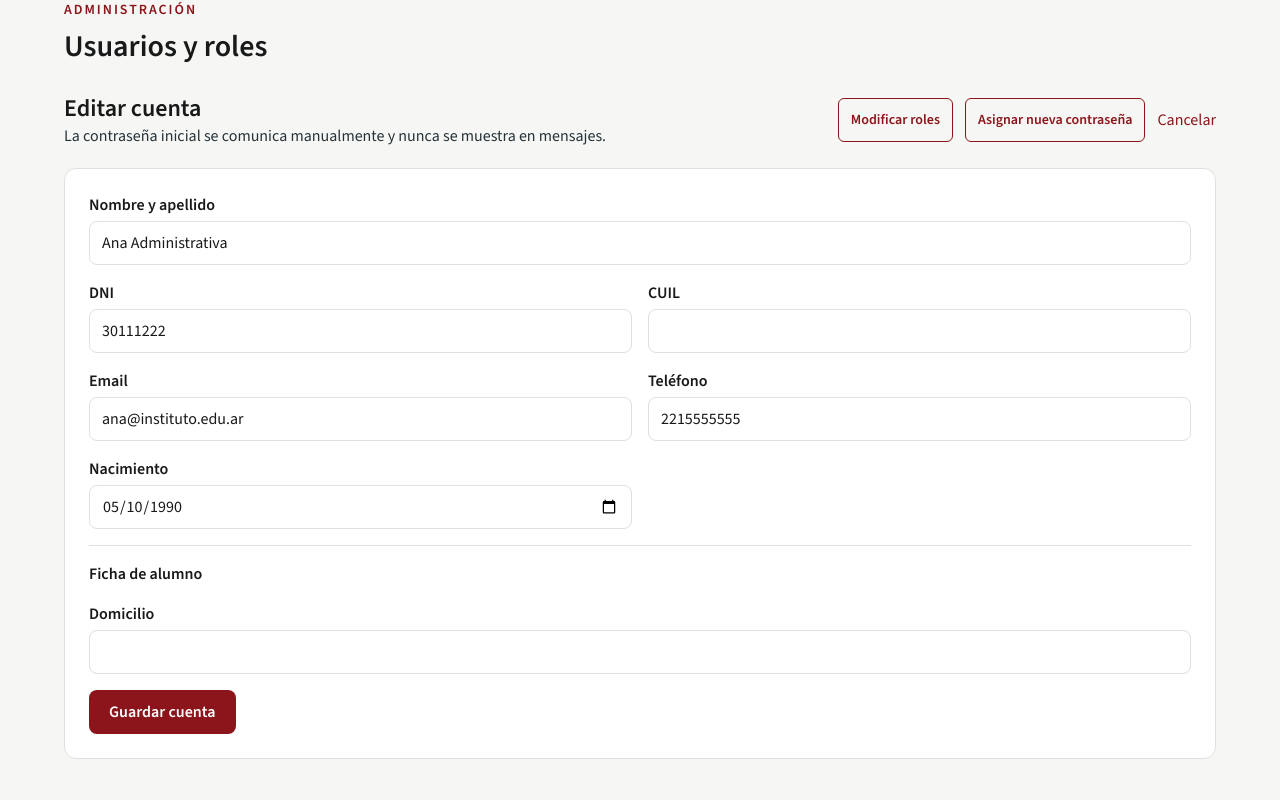
AdminUsersView › shows the password action inside Modificar datos for another user
The width and height of the screenshot is (1280, 800).
Expected: the heading "Editar cuenta" is shown, x1=64 y1=92 x2=201 y2=124
Click the button "Asignar nueva contraseña": (1055, 120) x1=965 y1=98 x2=1145 y2=142
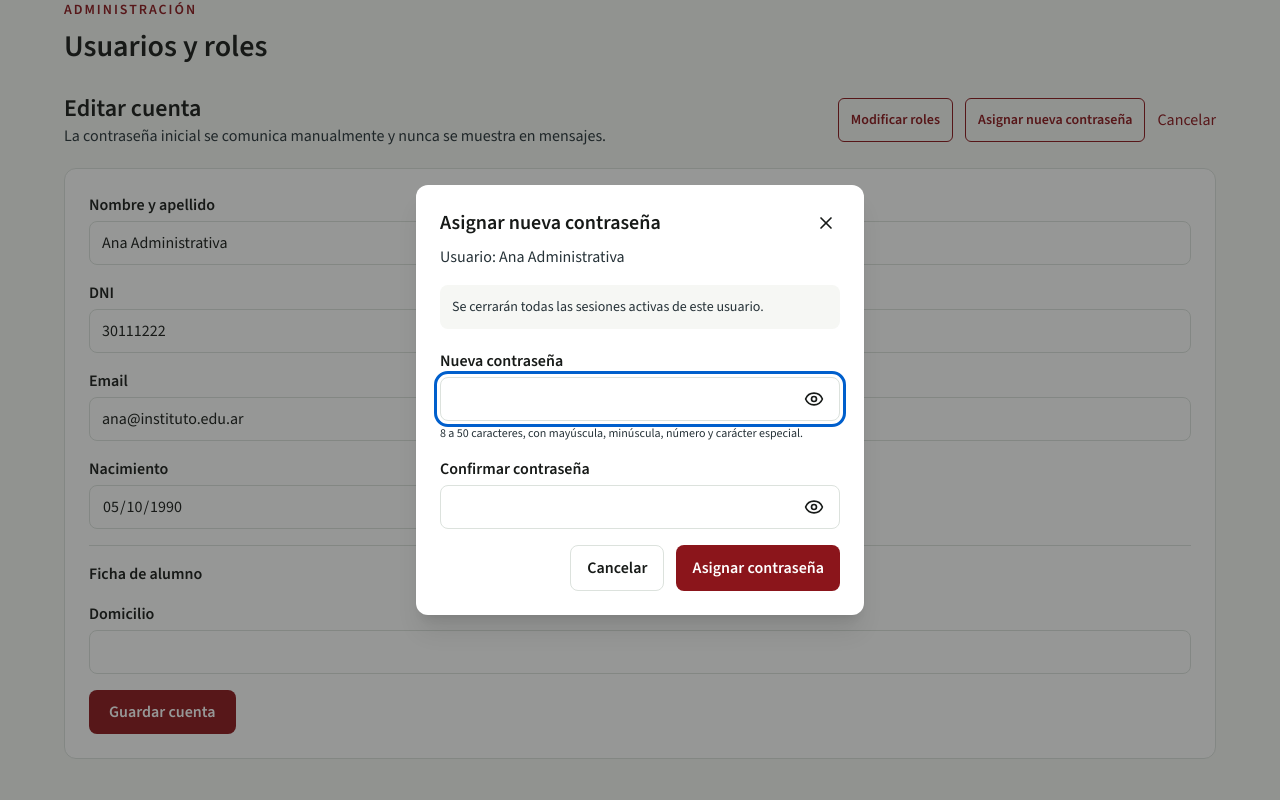
Now the dialog "Asignar nueva contraseña" is shown, box x1=416 y1=185 x2=864 y2=615
Click the button "Asignar contraseña": (758, 568) x1=676 y1=545 x2=840 y2=591
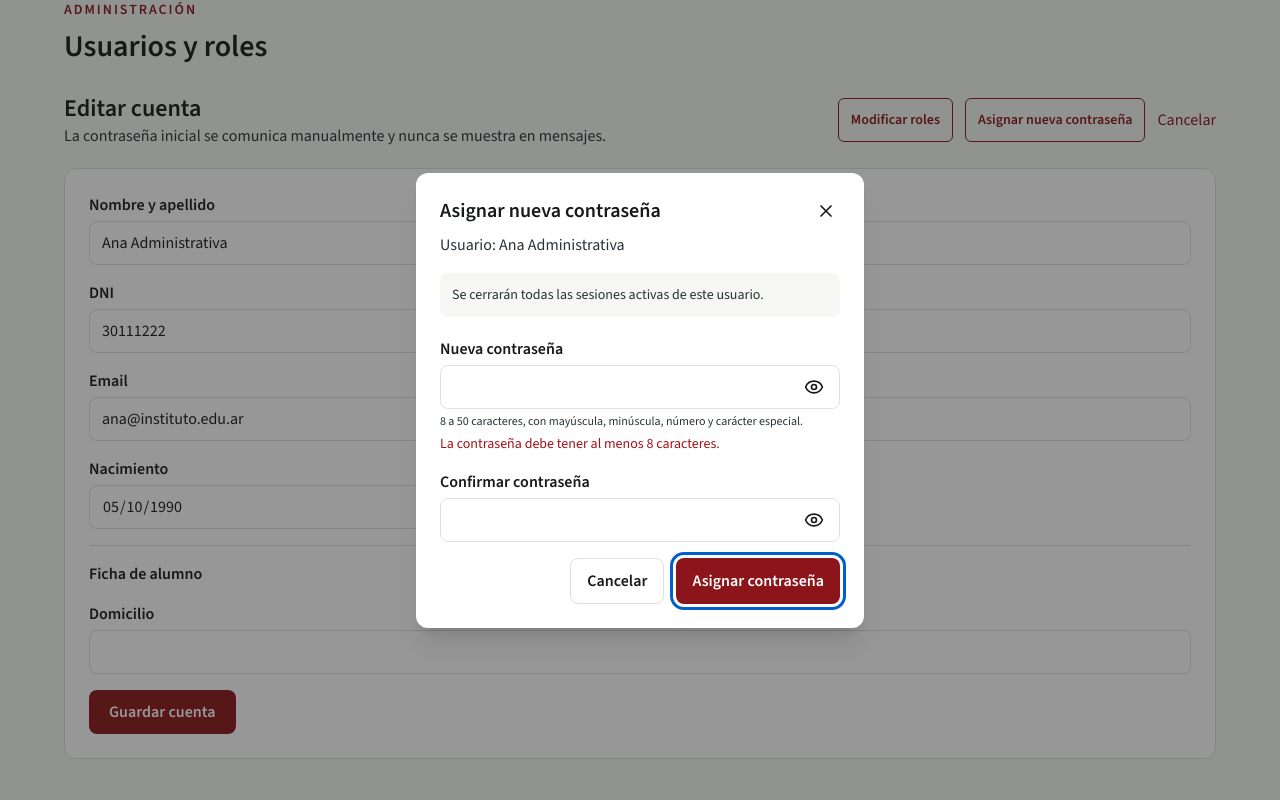
Now the text "La contraseña debe tener al menos 8 caracteres." is shown, box x1=440 y1=434 x2=720 y2=452
